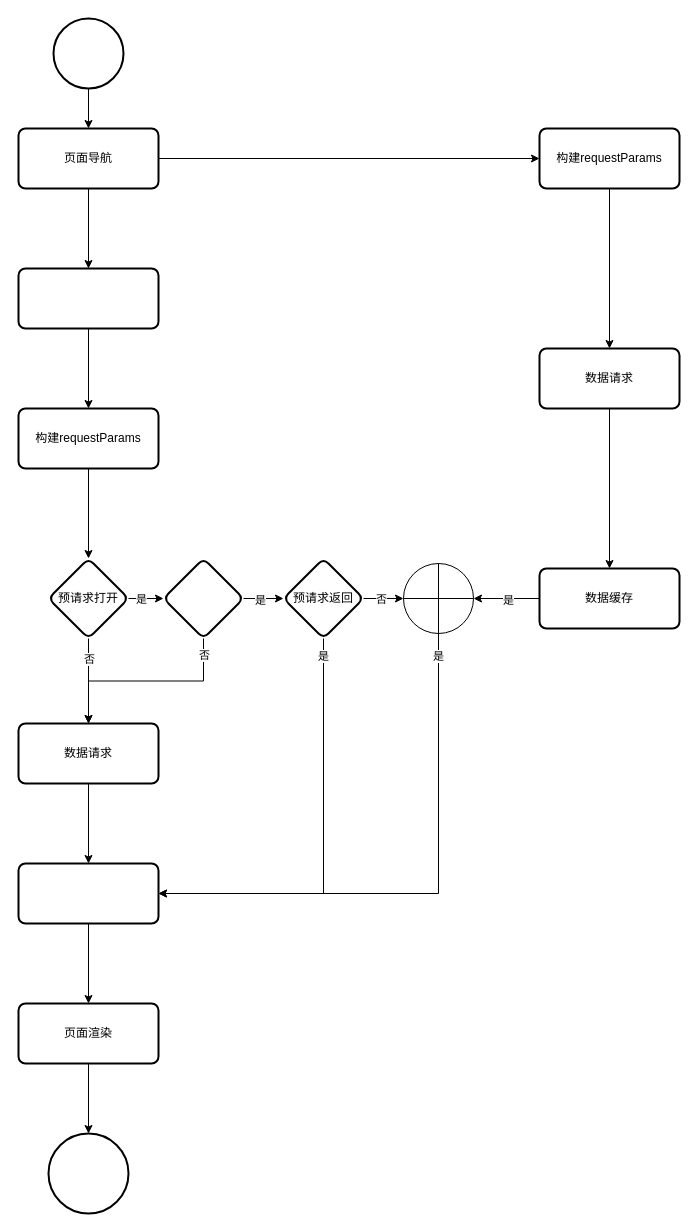
This 697x1231 diagram has some shape labels left out. Each missing label, with the centre of its shape:
开始: the point at 88,53
数据处理: the point at 88,893
结束: the point at 88,1173
请求参数一致: the point at 203,598
进入页面: the point at 88,298
